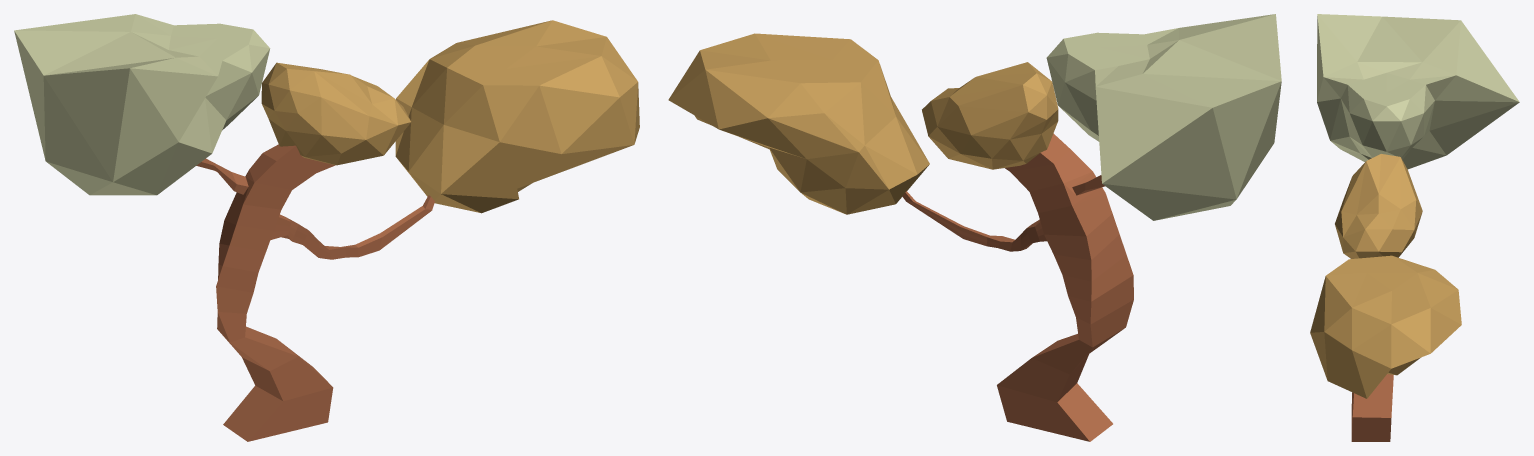
File: tree-platform.fbx
3 renders of one model, left to right at view 1: azimuth 30°, elevation 25°; view 2: azimuth 150°, elevation 25°; view 3: azimuth 270°, elevation 25°, orthographic. The views are drawn at different scales.
Parts seen in each view (by area): view 1: Bush_01, Bush_02, Tree_01, Bush_03; view 2: Bush_01, Bush_02, Tree_01, Bush_03; view 3: Bush_01, Bush_02, Bush_03, Tree_01.
Boxes of the visible parts, left/top/right/bottom form: Bush_01: left=14, top=14, right=270, bottom=195; Bush_02: left=395, top=20, right=639, bottom=213; Tree_01: left=196, top=144, right=434, bottom=441; Bush_03: left=261, top=62, right=410, bottom=165; Bush_01: left=1046, top=14, right=1281, bottom=220; Bush_02: left=668, top=33, right=929, bottom=214; Tree_01: left=902, top=133, right=1133, bottom=441; Bush_03: left=922, top=62, right=1058, bottom=169; Bush_01: left=1317, top=14, right=1519, bottom=169; Bush_02: left=1310, top=255, right=1461, bottom=398; Bush_03: left=1335, top=154, right=1422, bottom=258; Tree_01: left=1351, top=374, right=1393, bottom=441.
Size of the model in its own units: 588 by 402 by 224.
